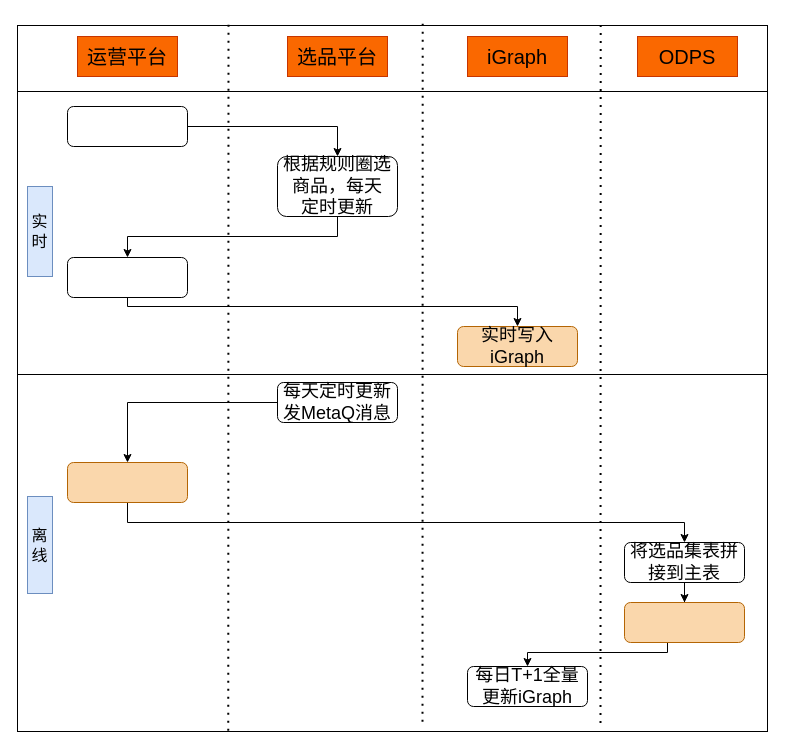
This 785x750 diagram has some shape labels left out. The shapes that lost their labels are listed below. From the top down, each one's box as (x1, y1, x2, y2) in pixels, then its label:
(66, 106, 188, 146): 运营在选品集 建规则
(66, 256, 188, 298): 运营填入 选品集ID
(66, 462, 188, 502): 生成odps表 拼接逻辑
(624, 602, 744, 642): 定时任务将主表回流iGraph
